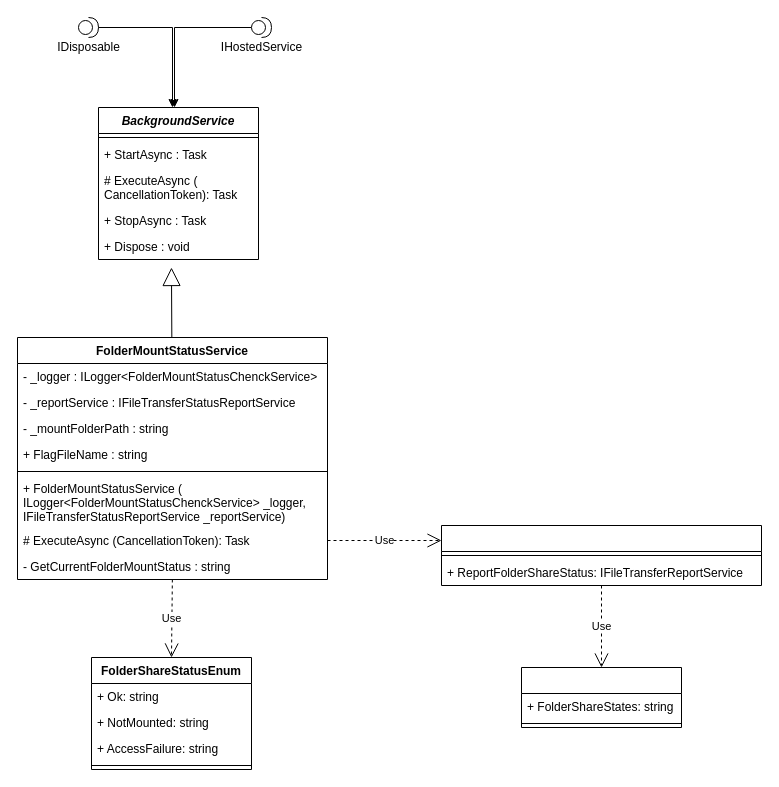
This 779x787 diagram has some shape labels left out. Here are the shapes that lost their labels. From the top down, the box of each, then its label:
(440, 524, 762, 586): FileTransferStatusReportServiceExtension
(520, 666, 682, 728): FileTransferStatus
